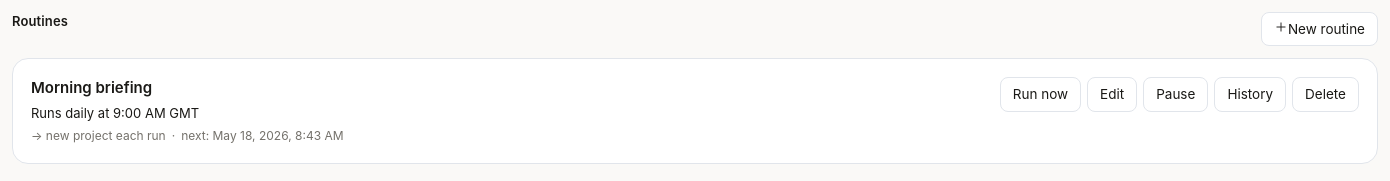
RoutinesSection › deletes a routine after confirmation
Click the button "Delete".
click(1326, 94)  # box [1292,77,1359,112]
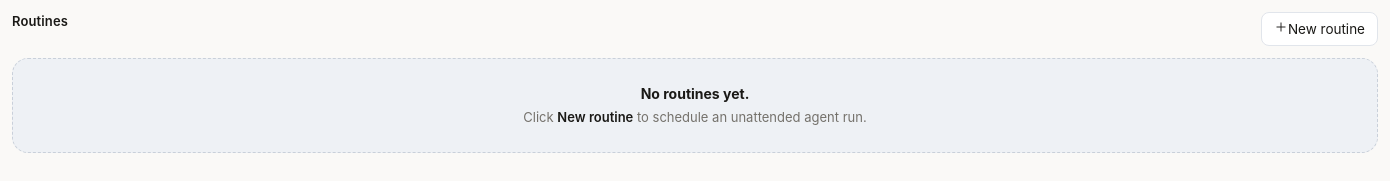
Expected: the text "No routines yet." is shown, [641,85,749,102]
